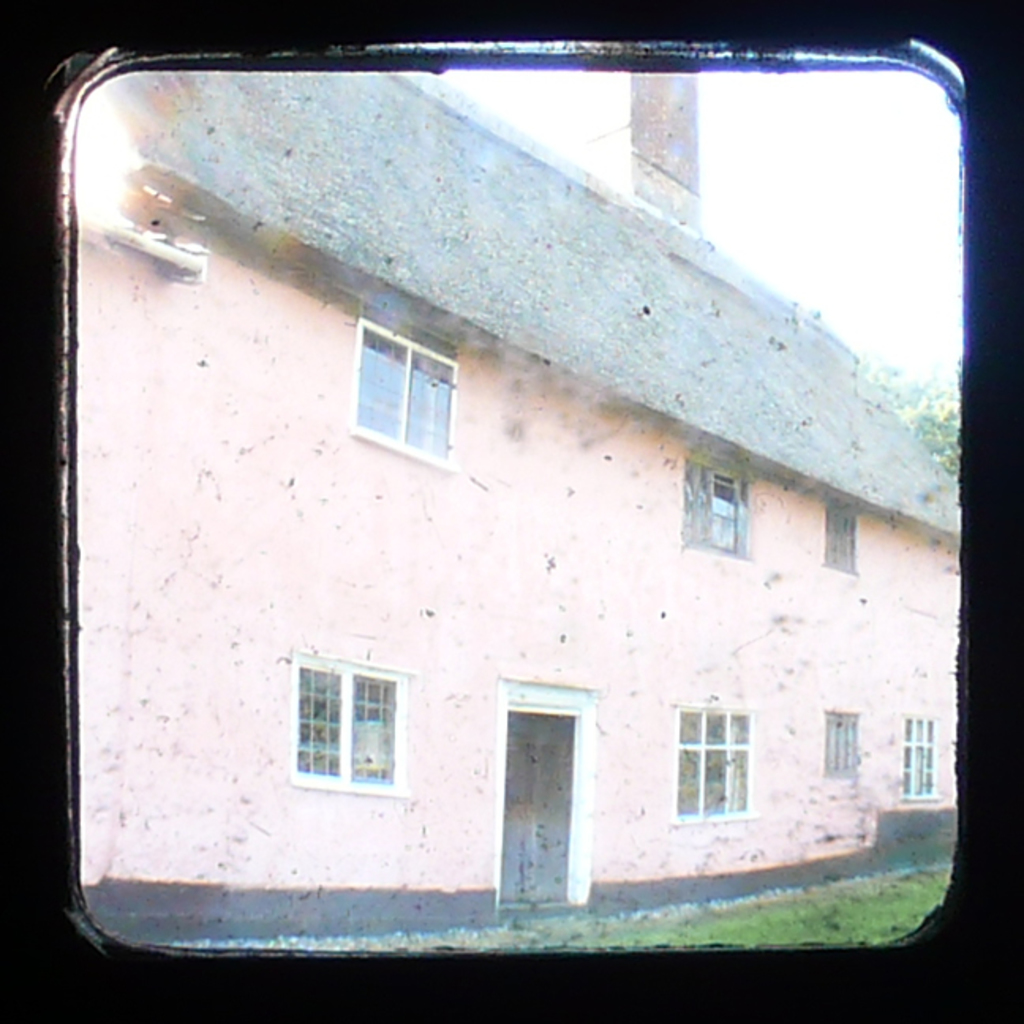Window: (288, 649, 427, 796), (348, 316, 457, 469), (678, 706, 752, 815), (678, 460, 751, 553), (899, 714, 940, 798), (823, 706, 860, 777), (819, 509, 858, 575)
